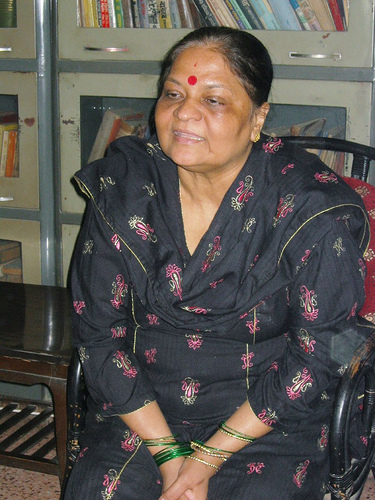without_mask: (150, 30, 276, 192)
